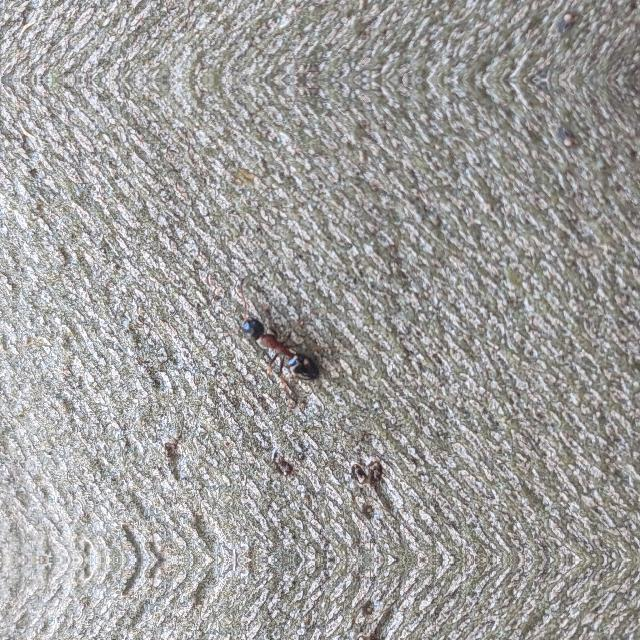Dolichoderus: (211, 293, 345, 393)
